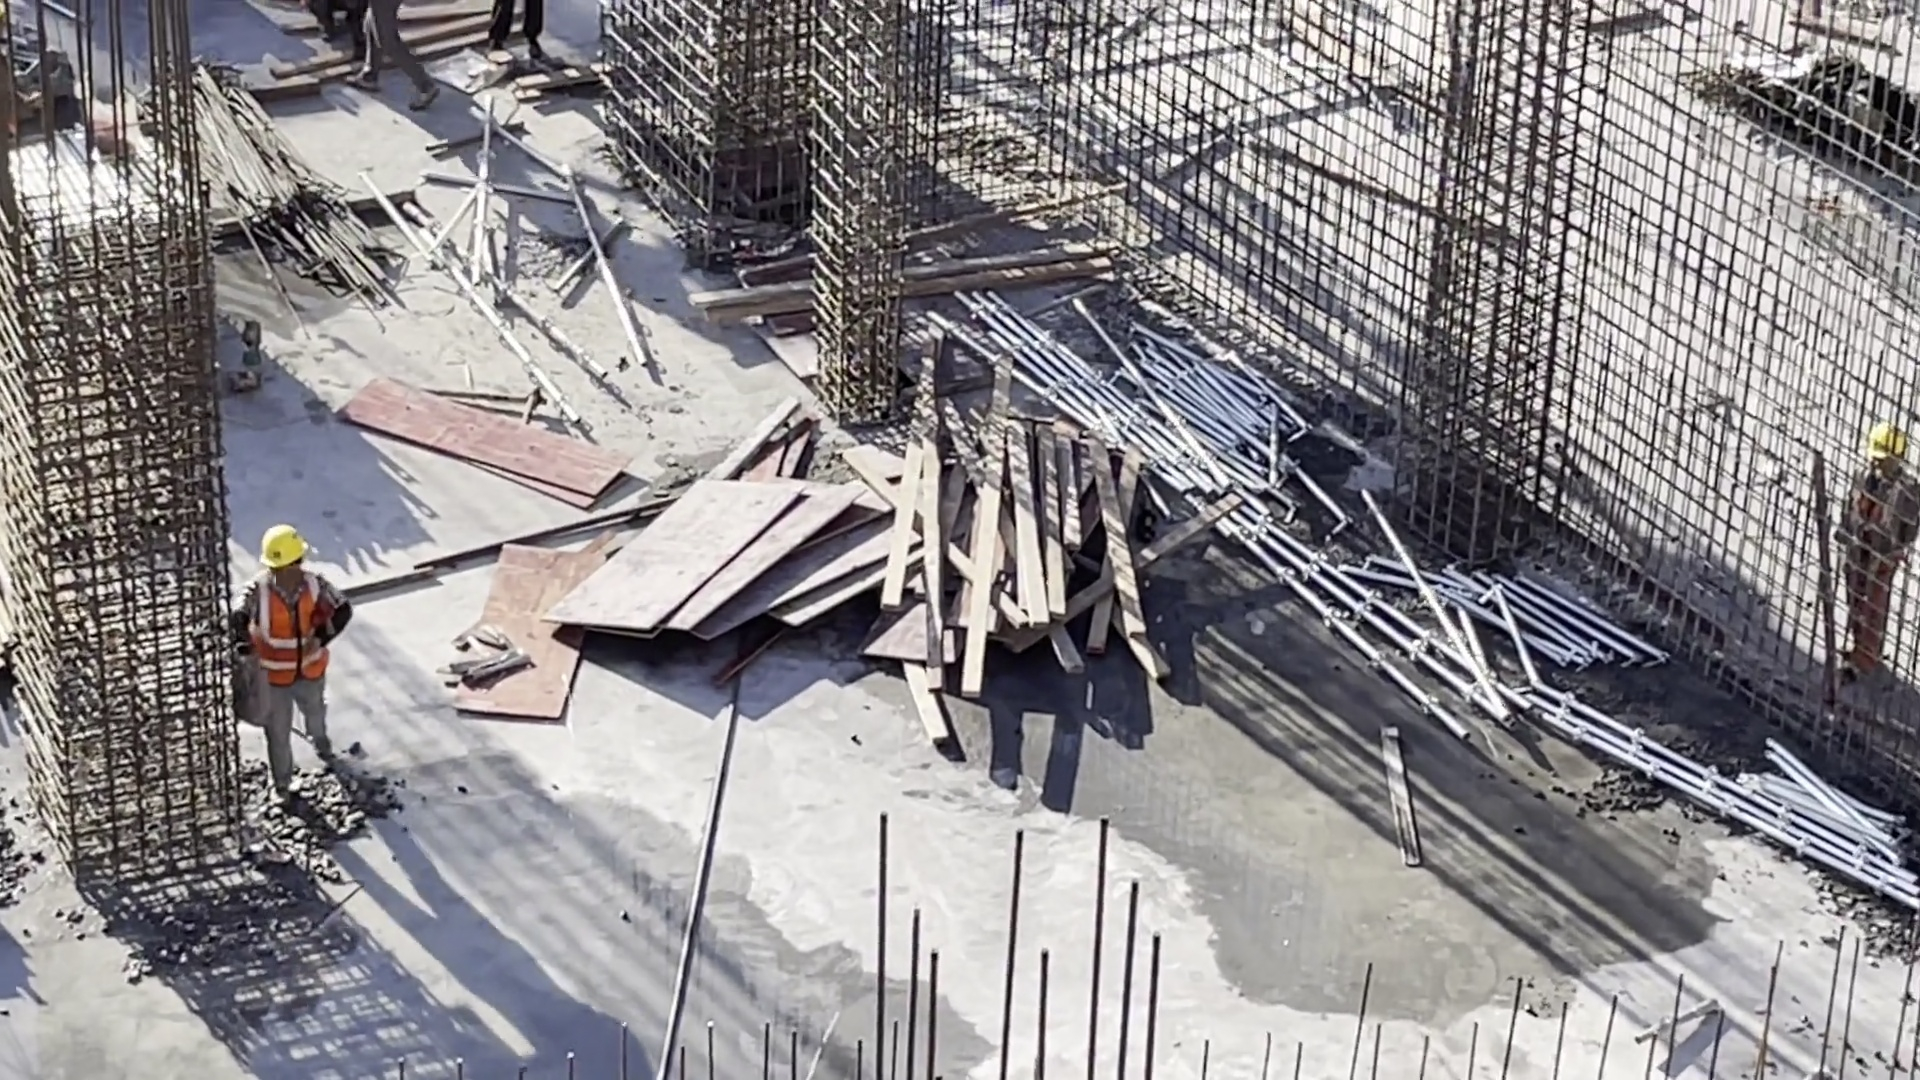board: (550, 473, 897, 655)
helmet: (251, 515, 319, 563), (1875, 417, 1911, 457)
person: (223, 513, 363, 813), (1815, 411, 1912, 727), (352, 1, 458, 128)
scaffold: (1044, 305, 1290, 489), (1434, 556, 1632, 721), (1734, 743, 1918, 912)
vest: (249, 569, 339, 678), (1841, 462, 1906, 563)
wood: (897, 343, 1161, 699)
